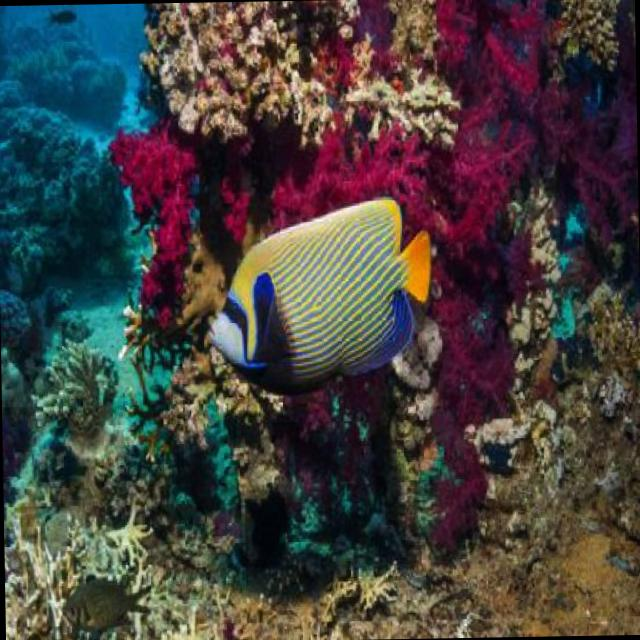AngelFish: (206, 194, 428, 386)
